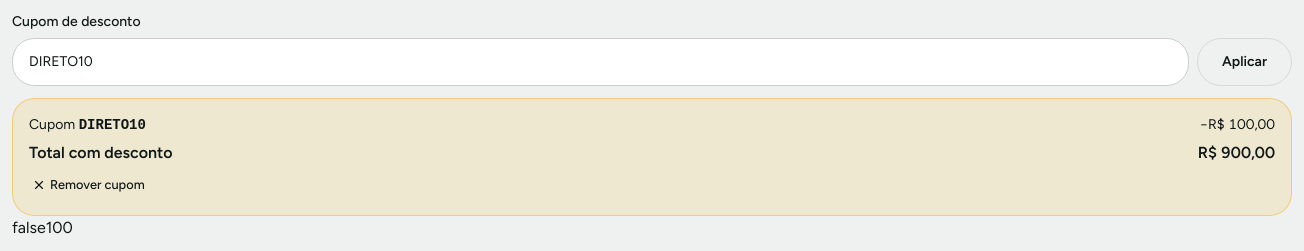
Test: CouponField + useCoupon › remover o cupom limpa o desconto
Click the button "Remover cupom": (88, 185) [21,171,156,199]
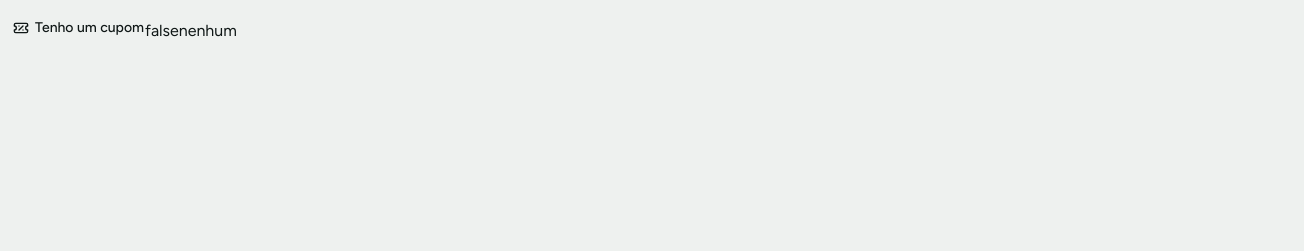
expect the text with test id "applied" reads "nenhum": met, box [179,21,237,40]
expect the button "Tenho um cupom" is shown: met, box [12,12,145,44]
